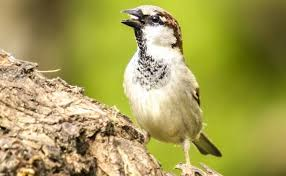hsparrow: (114, 3, 223, 176)
